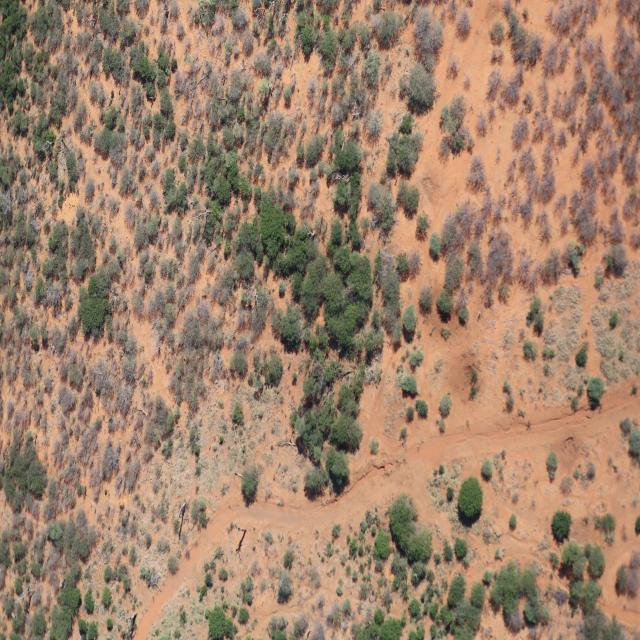elephant: (59, 578, 66, 589)
